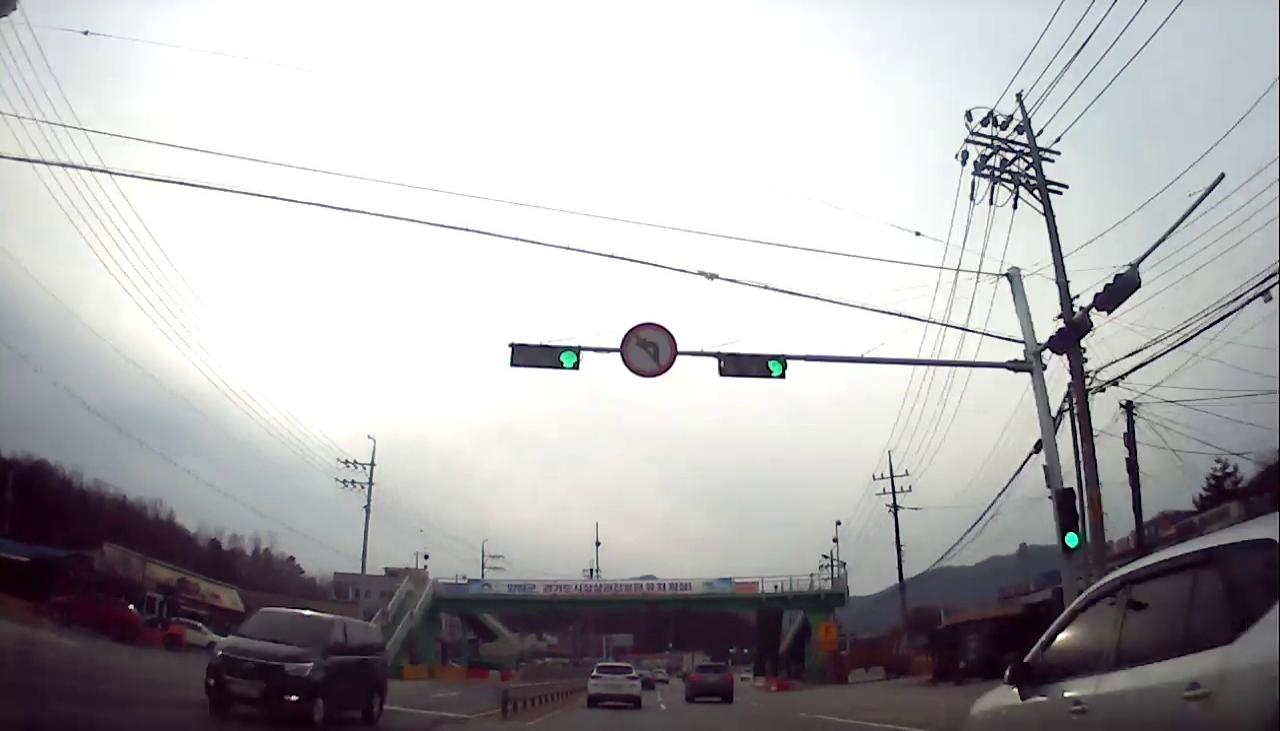Green Light: (557, 346, 579, 370), (764, 358, 790, 378), (1062, 531, 1081, 550)
